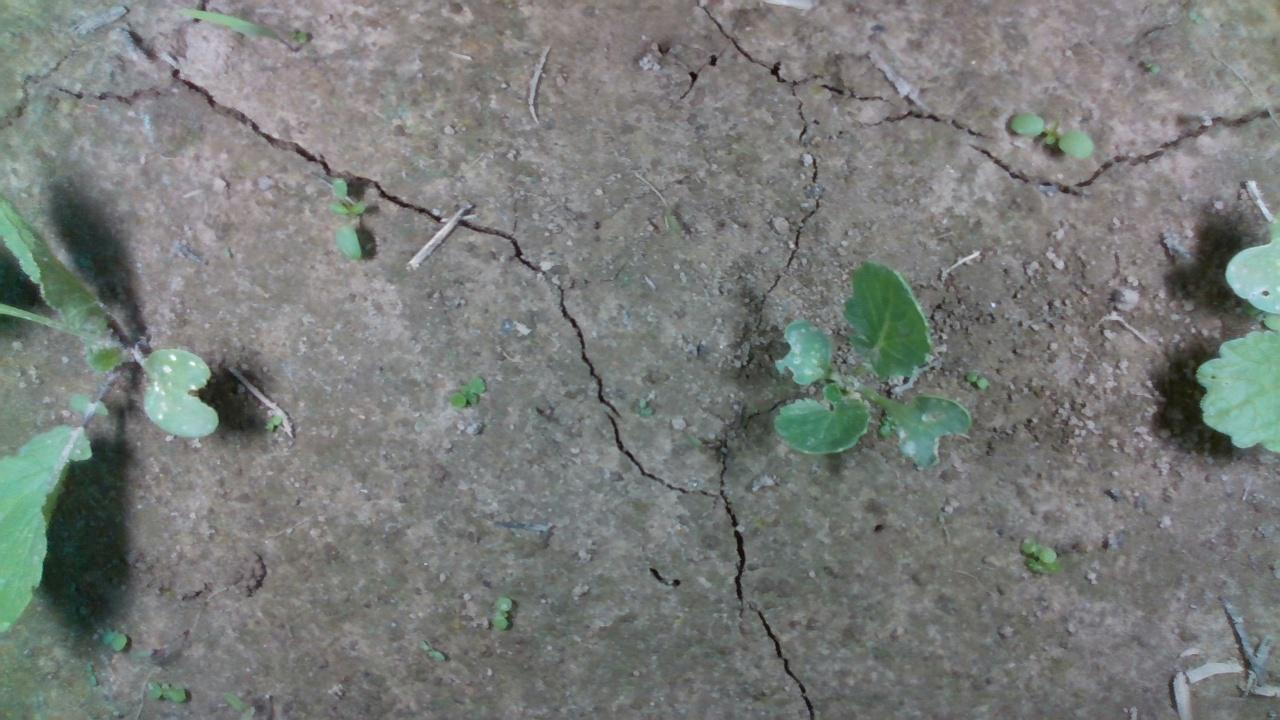weed: (1013, 104, 1094, 167), (323, 175, 373, 257), (441, 371, 494, 419), (1018, 532, 1062, 574), (98, 626, 135, 661), (488, 593, 514, 640), (959, 366, 988, 389), (634, 395, 658, 420), (418, 638, 446, 659)
